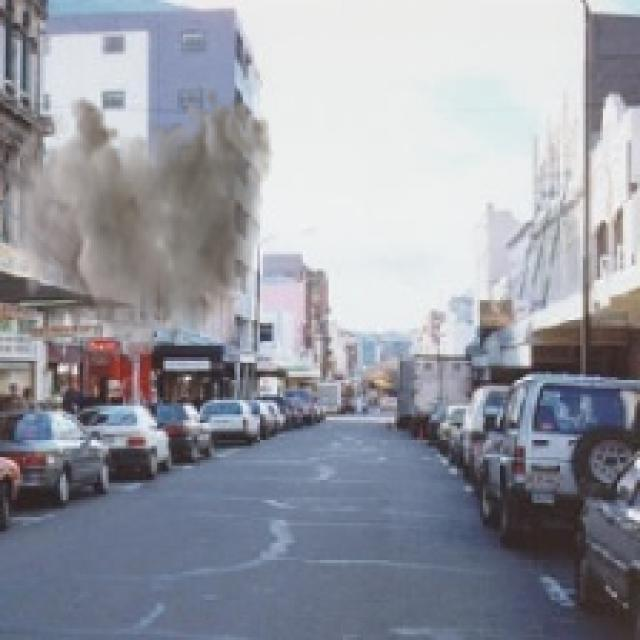Smoke: (0, 88, 275, 372)
